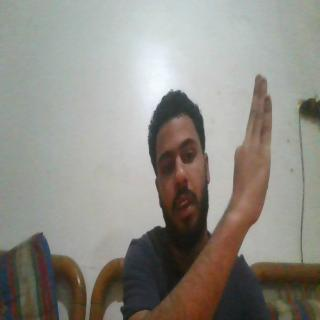Space: (225, 70, 277, 244)
